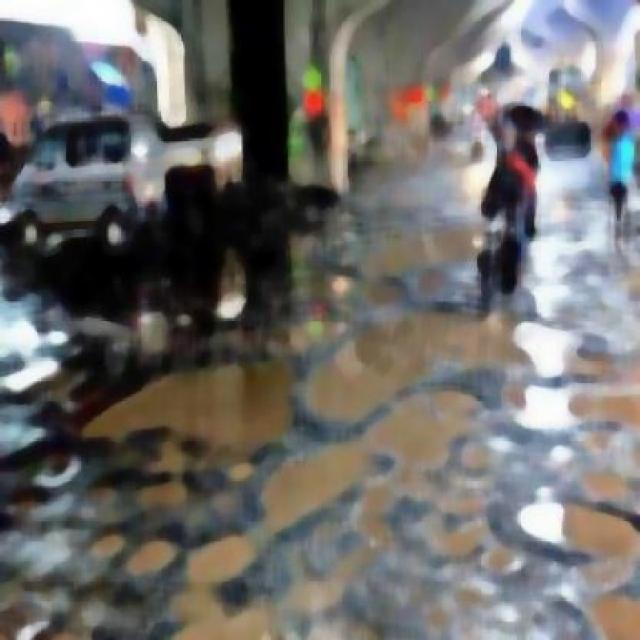Pothole: (315, 290, 587, 387), (104, 370, 298, 475), (520, 463, 631, 572)
